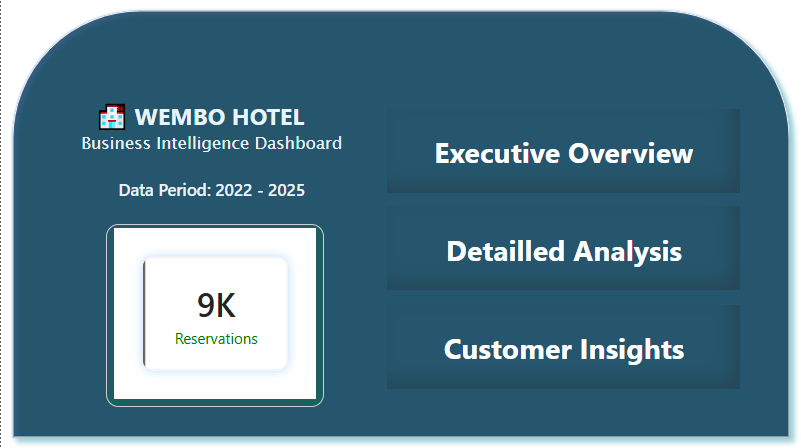

The page's visual inventory and layout, read from the dashboard file:
{"tool":"powerbi","page":{"name":"Home","canvas":[640,360],"ordinal":0},"visuals":[{"type":"shape","box":[0,0,640,360.1],"z":0},{"type":"textbox","box":[9.3,75.9,299.8,90.2],"z":1},{"type":"cardVisual","title":"Returning cunstomers","fields":{"Data":["hotel_bookings_records.Reservations"]},"box":[84,180.4,174.2,145.5],"z":2},{"type":"actionButton","box":[309.1,87.7,281.8,67.2],"z":3},{"type":"actionButton","box":[309.1,166.1,281.8,67.2],"z":4},{"type":"actionButton","box":[309.1,245.1,281.8,67.2],"z":5}]}

Visuals, with their boxes in screenshot pixels (x1, y1, x2, y2), scaled from the page's 640x360 canvas onto the 801x448 screenshot:
shape: left=0, top=0, right=800, bottom=447
textbox: left=12, top=94, right=387, bottom=207
"Returning cunstomers" cardVisual: left=105, top=224, right=323, bottom=406
actionButton: left=387, top=109, right=740, bottom=193
actionButton: left=387, top=207, right=740, bottom=290
actionButton: left=387, top=305, right=740, bottom=389
